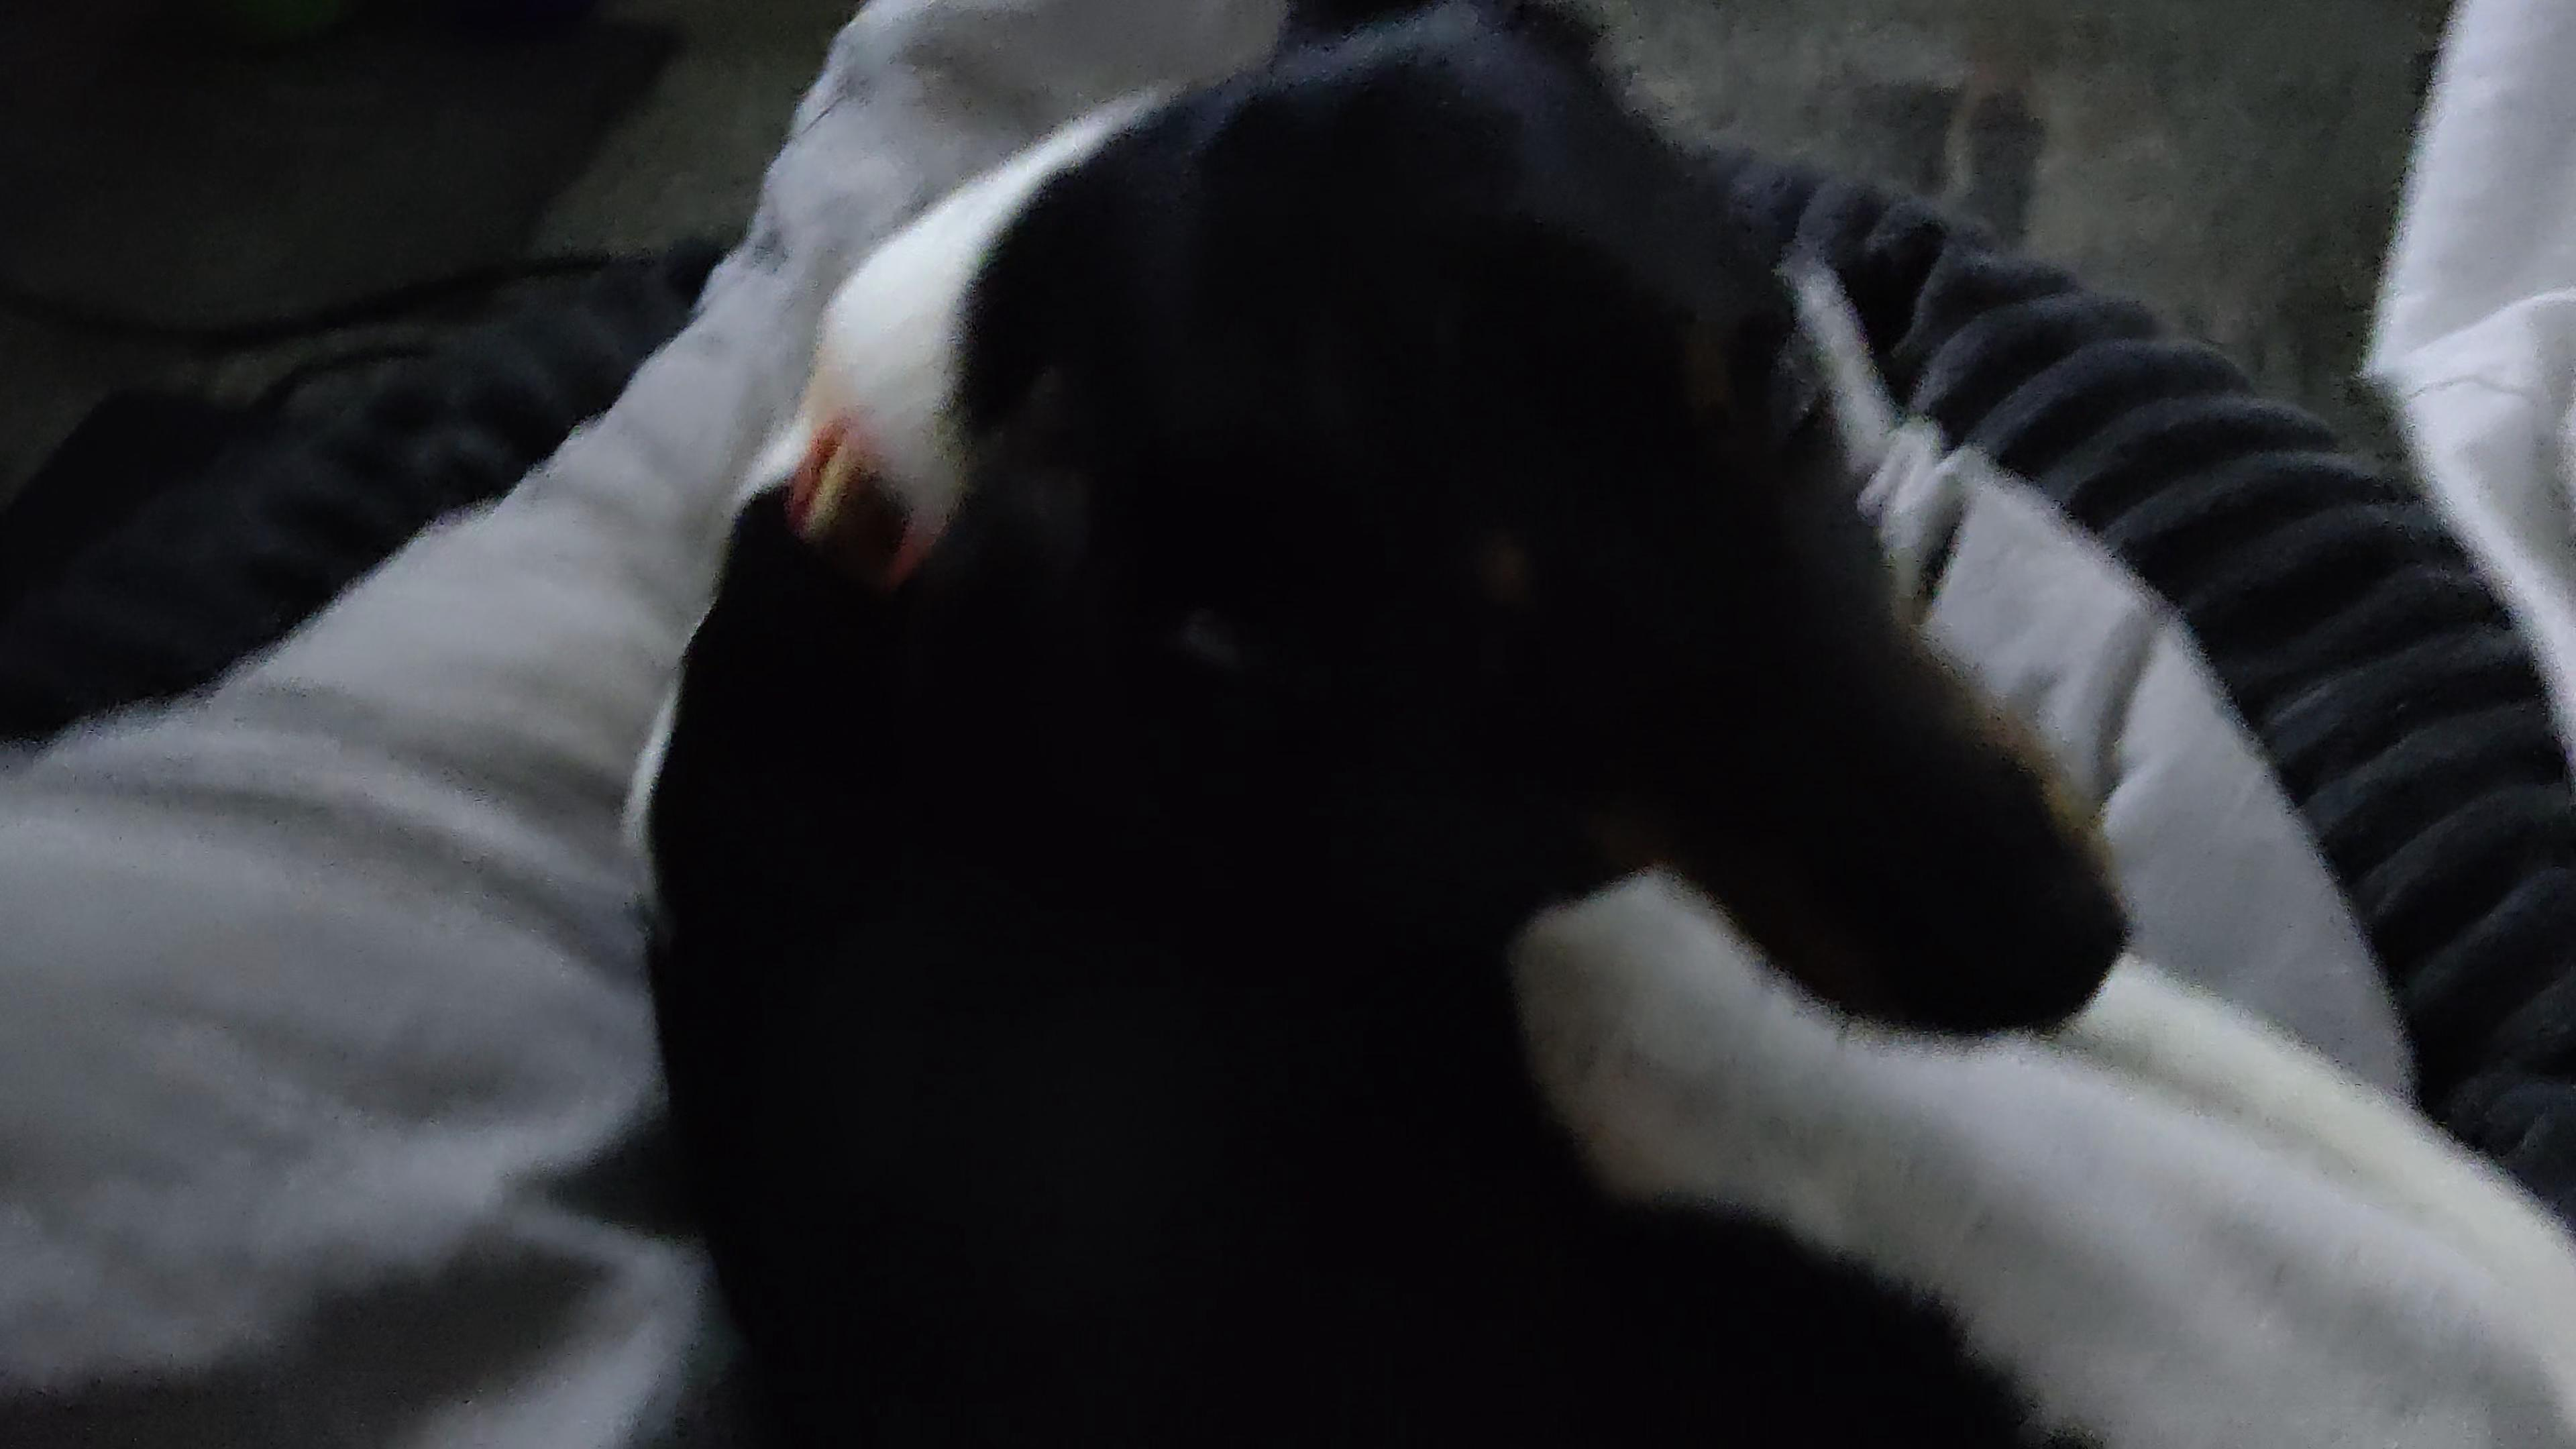Dog: (630, 0, 2576, 1449)
